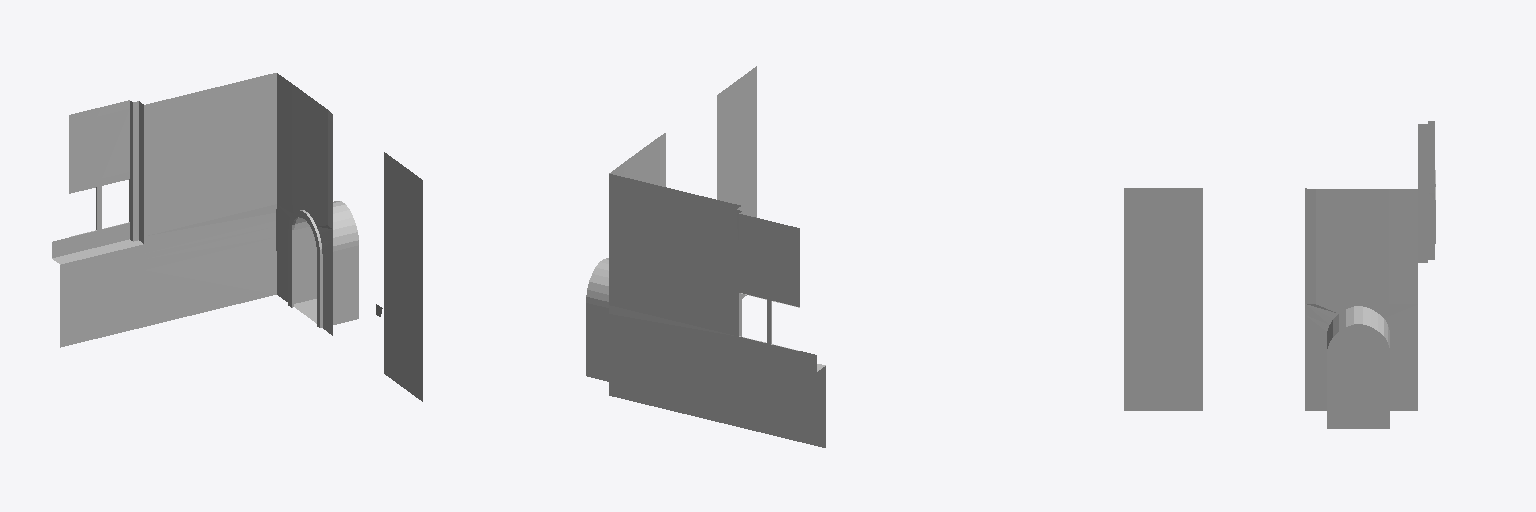
Rendered from walls.obj.
3 renders of one model, left to right at view 1: azimuth 30°, elevation 25°; view 2: azimuth 150°, elevation 25°; view 3: azimuth 270°, elevation 25°, orthographic.
Visible parts, largest first — view 1: walls walls_grp roomGeo_grp; view 2: walls walls_grp roomGeo_grp; view 3: walls walls_grp roomGeo_grp.
Boxes of the visible parts, x1,y1,x2,y2 form: walls walls_grp roomGeo_grp: [52, 73, 422, 401]; walls walls_grp roomGeo_grp: [586, 66, 825, 447]; walls walls_grp roomGeo_grp: [1124, 121, 1435, 428].
Bounding box in the file's own units: 1451 × 1214 × 1546.